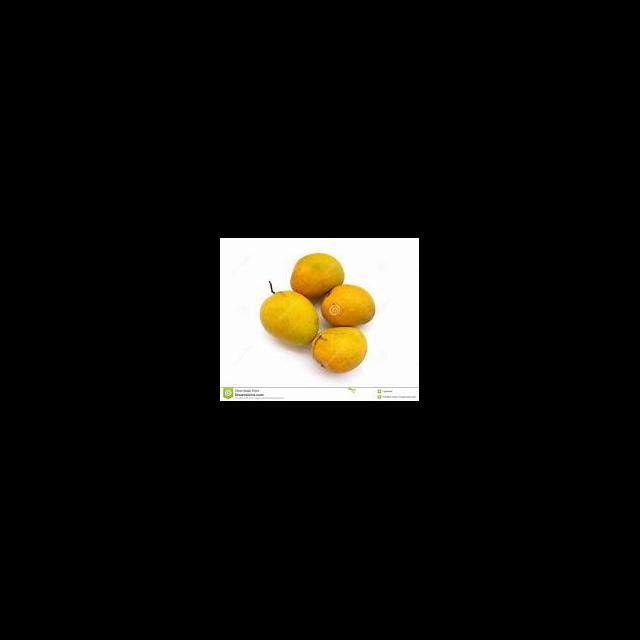mango: (261, 292, 319, 346), (291, 254, 345, 299), (322, 286, 375, 327)
